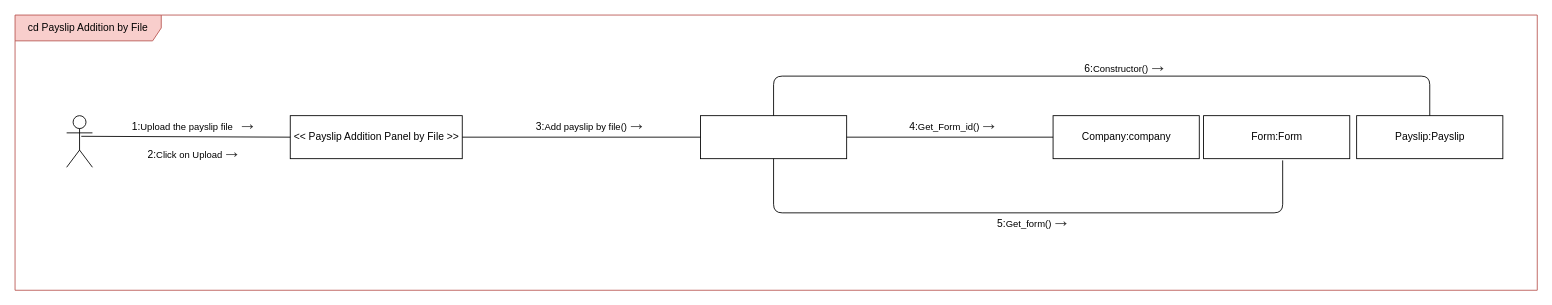
Some shapes in this 1552 by 305 pixel diagram are drawn without their labels. Each missing label, with the centre of its shape:
"Manager:Manager" belongs at point (773, 137).
"User" belongs at point (79, 141).
